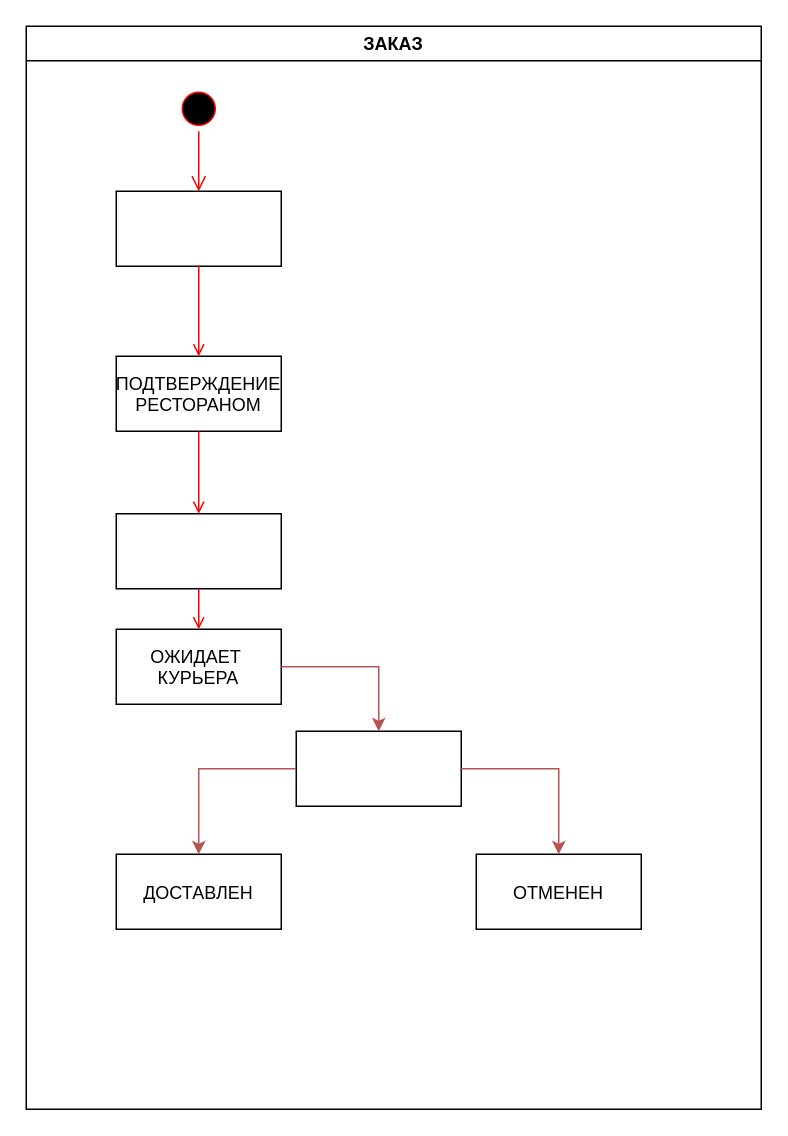
The diagram is 788 pixels wide and 1136 high, and some of its shapes have lost their labels. The centre of each missing label's shape, as x and y in pixels:
"ГОТОВИТСЯ" belongs at (x=198, y=550).
"ДОСТАВЛЯЕТСЯ" belongs at (x=378, y=768).
"СОЗДАН" belongs at (x=198, y=228).
